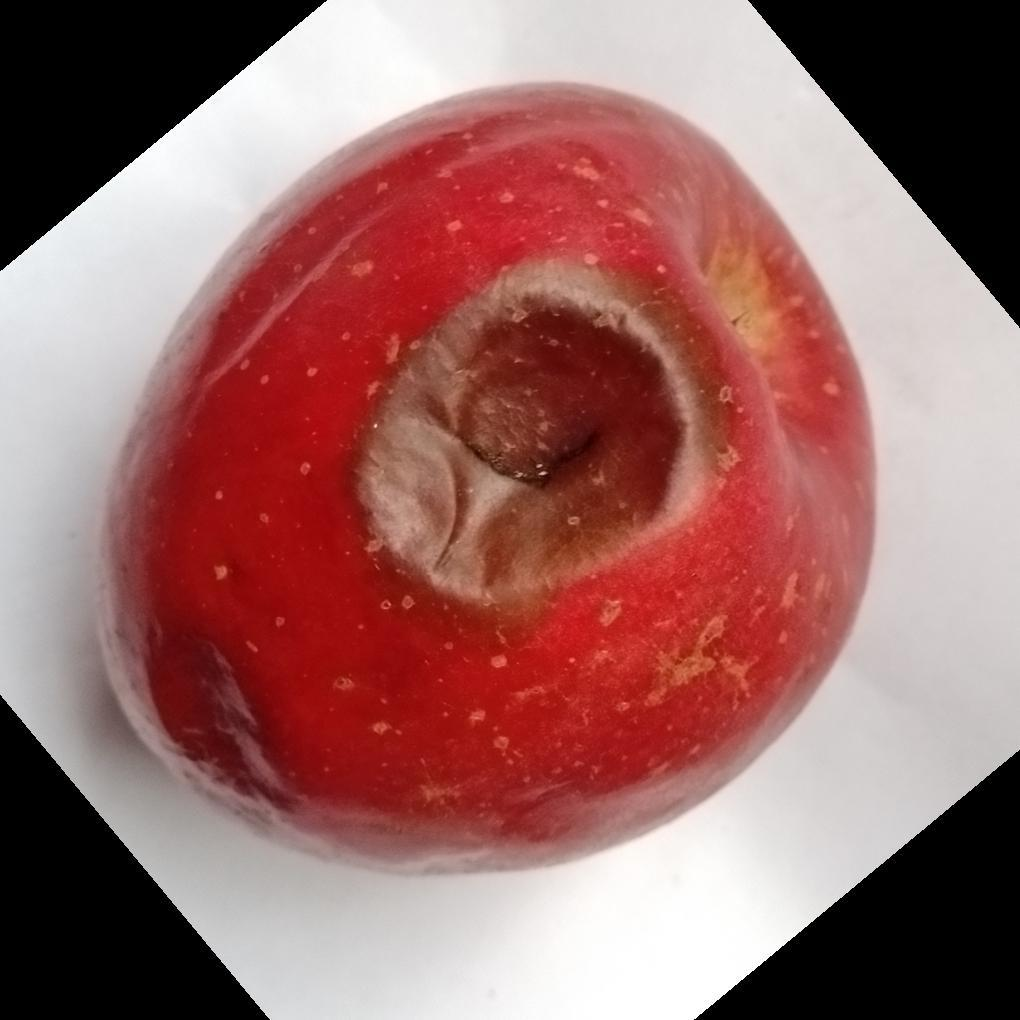FreshOrange: (84, 81, 879, 883)
